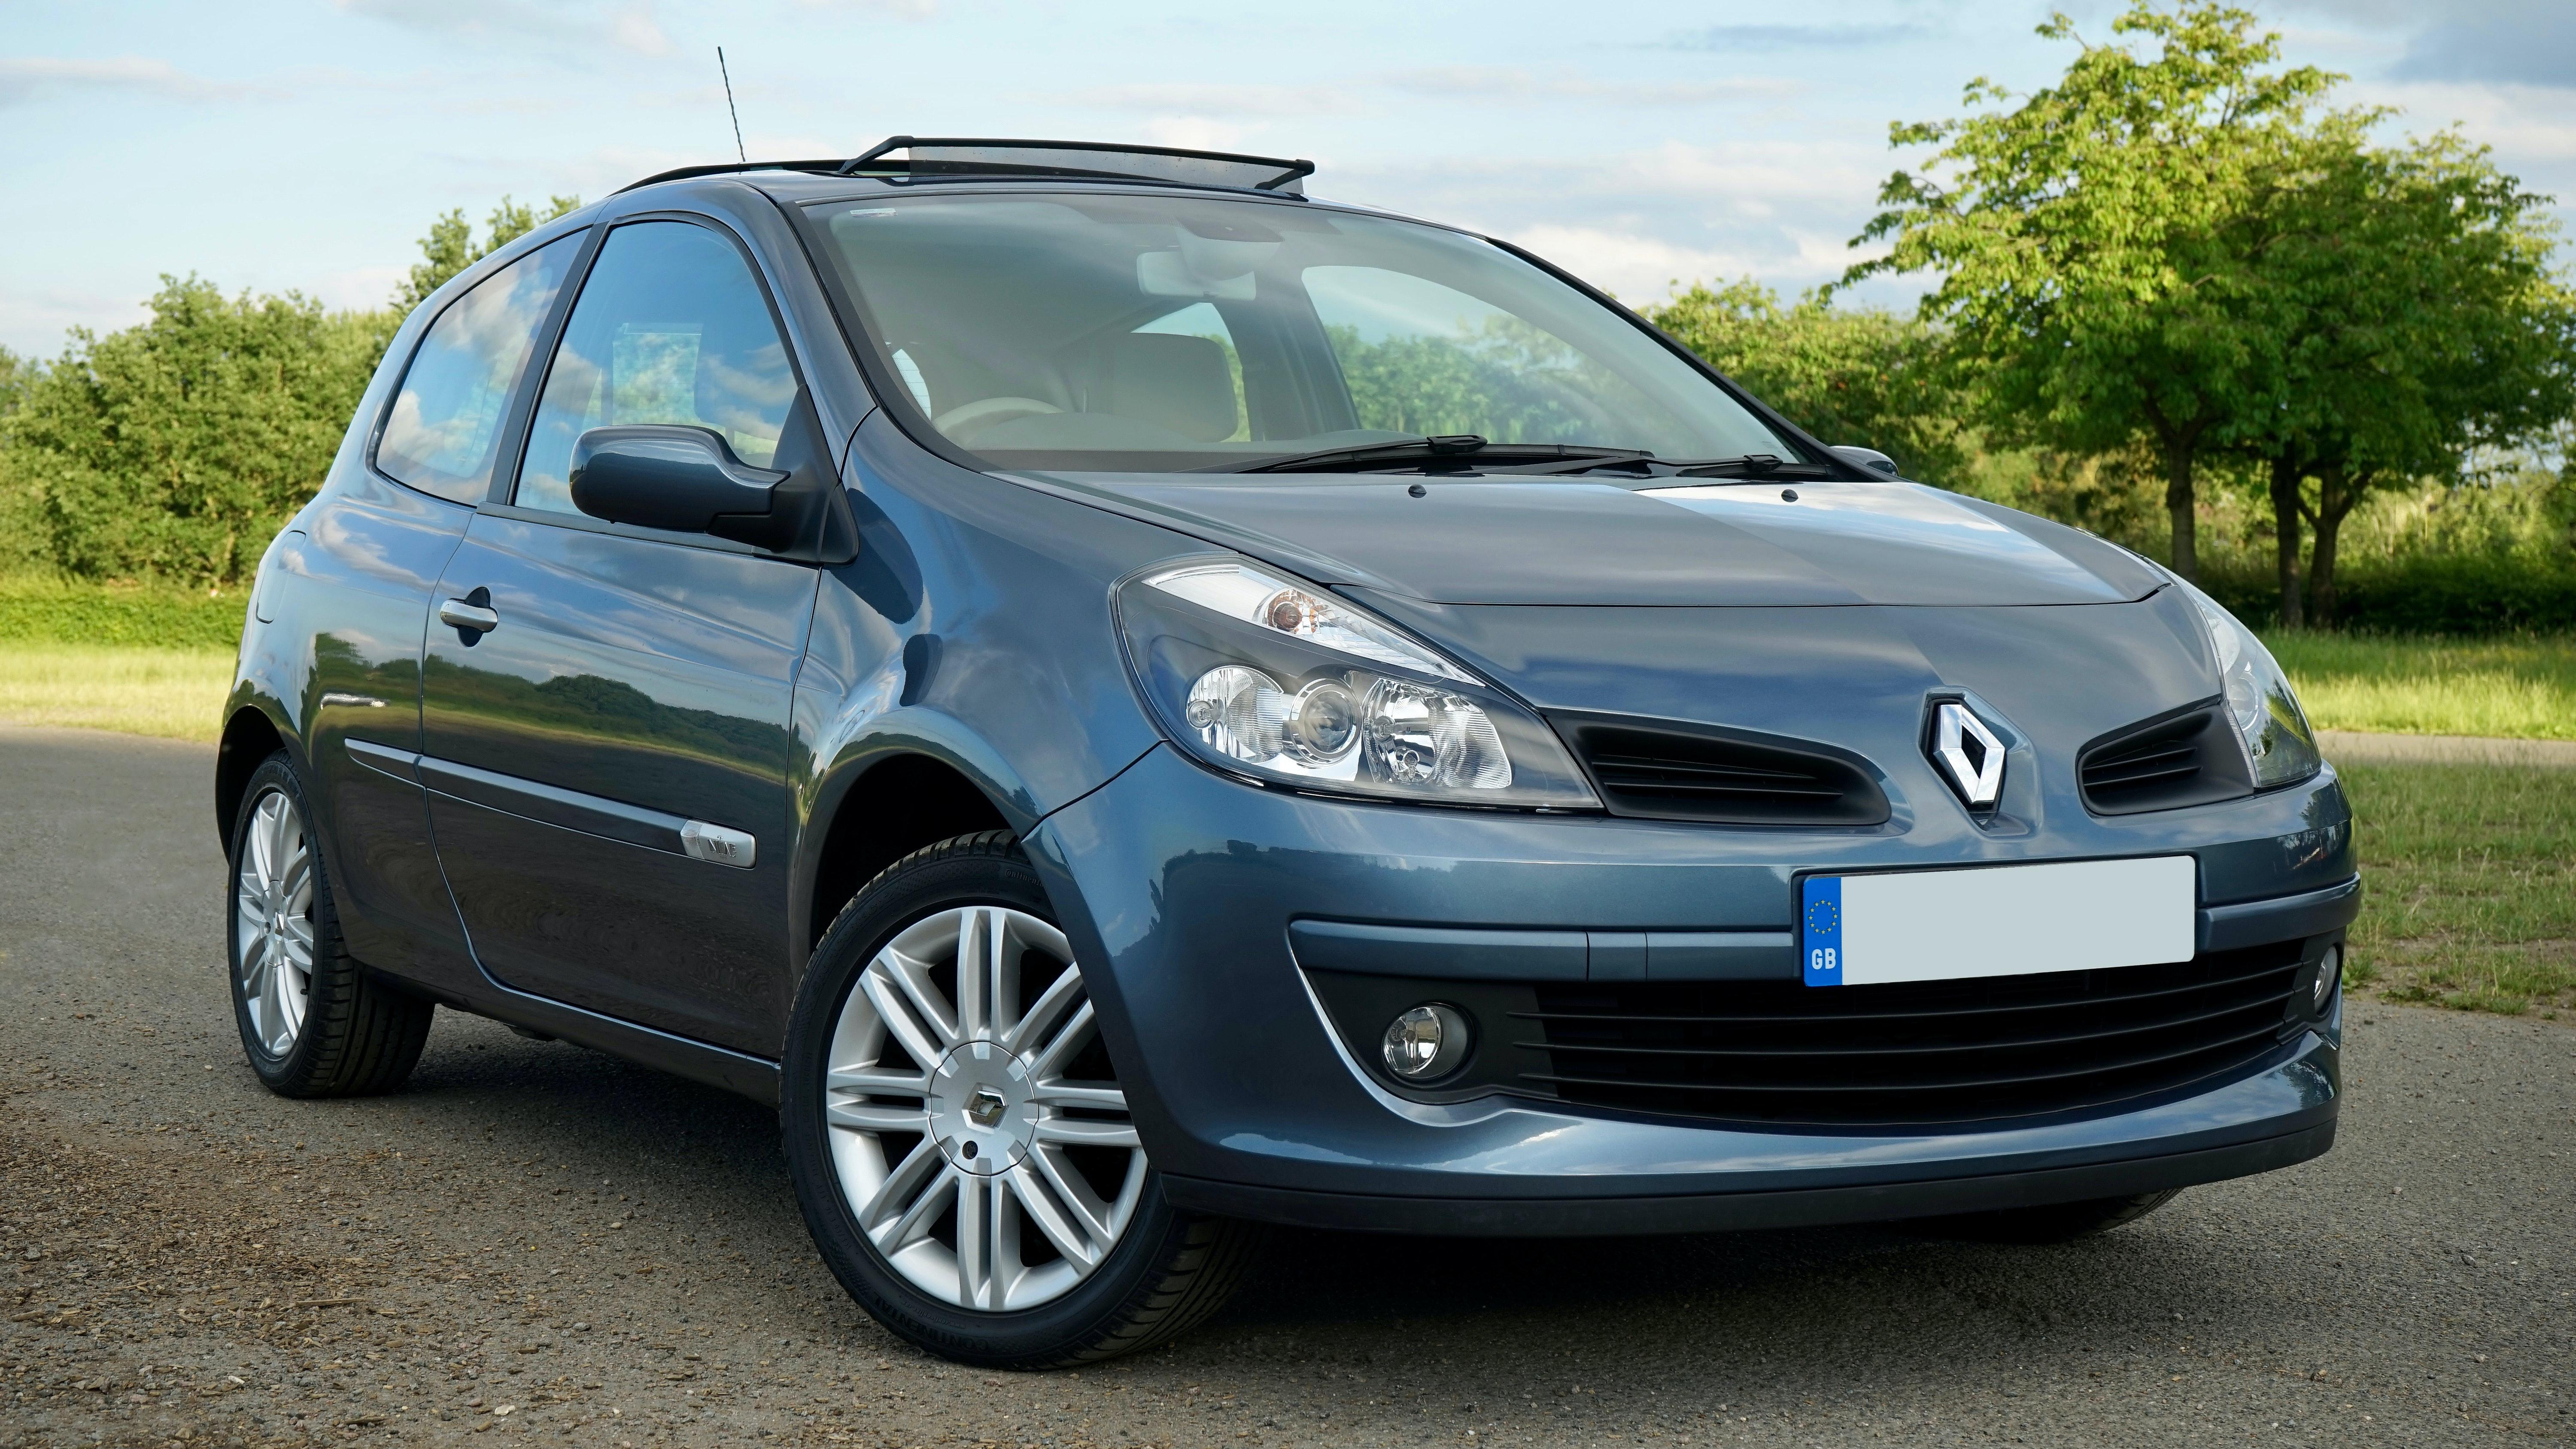Renault: (1890, 671, 2035, 842)
